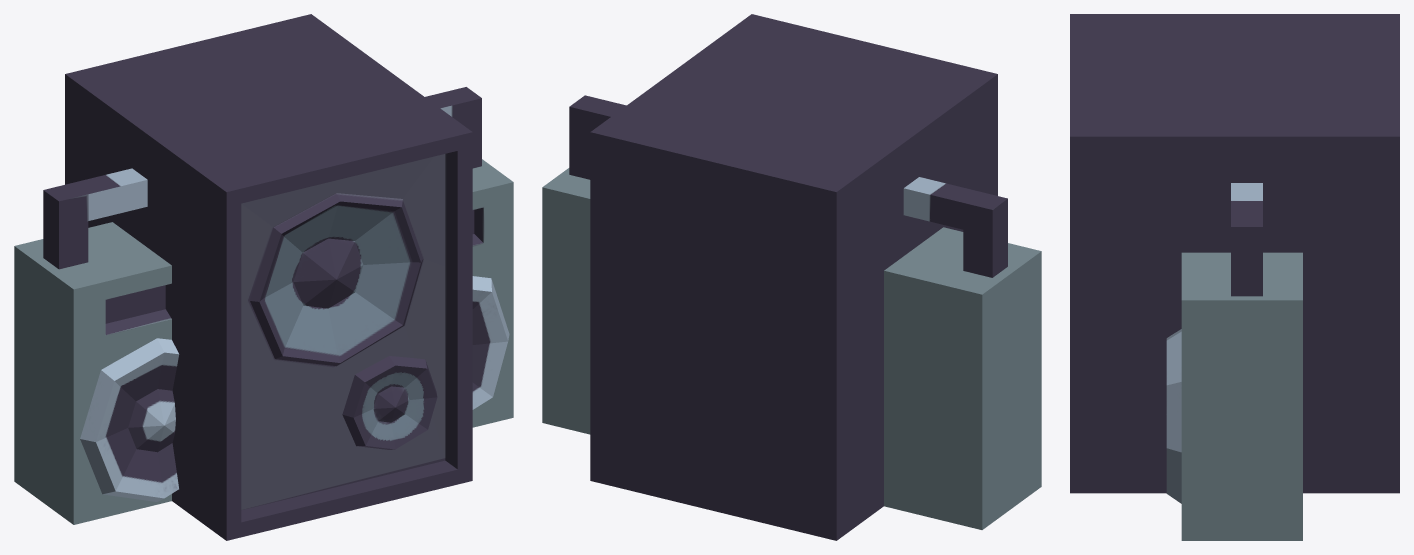
File: speakerset.fbx
3 views of the same model, side by side, from view 1: azimuth 30°, elevation 25°; view 2: azimuth 150°, elevation 25°; view 3: azimuth 270°, elevation 25° (orthographic). The views are drawn at different scales.
Parts seen in each view (by area): view 1: speaker2, boombox; view 2: speaker2, boombox; view 3: speaker2, boombox.
Boxes of the visible parts, <box> form: speaker2: <box>65,14,472,540</box>; boombox: <box>14,87,513,524</box>; speaker2: <box>590,14,997,540</box>; boombox: <box>542,95,1041,529</box>; speaker2: <box>1070,14,1399,493</box>; boombox: <box>1166,183,1302,540</box>.
Size of the model in its own units: 0.0227 by 0.0172 by 0.0144.
